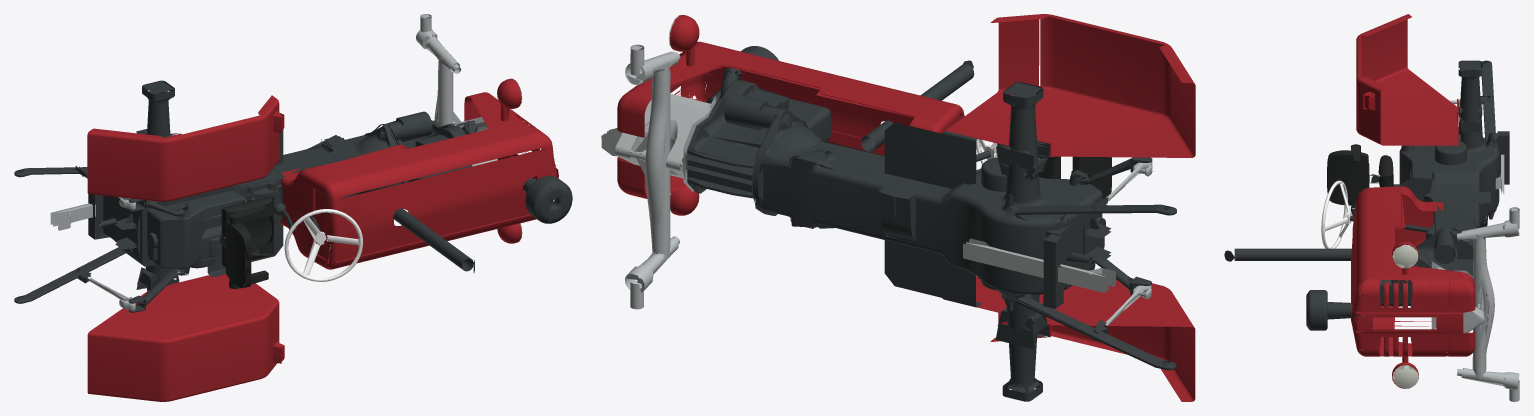
The model's file is vehicle_visual.obj.
The picture shows the model from 3 angles, left to right: view 1: azimuth 30°, elevation 25°; view 2: azimuth 150°, elevation 25°; view 3: azimuth 270°, elevation 25°; orthographic projection. The views are drawn at different scales.
Parts seen in each view (by area): view 1: 0033_MudGuard_MirrorDefault, 0036_Hood_Default<As_Machined>, 0034_MudGuard, 0055_Liftng_Block, 0035_Dashboard, 0062_Block_Default<As_Machined>, 0052_Clutch_Block, 0032_Grill, 0051_Motor, 0004_Seat, 0040_Hood_Default<As_Machined>, 0010_Steering_Wheel (+13 smaller); view 2: 0034_MudGuard, 0062_Block_Default<As_Machined>, 0052_Clutch_Block, 0033_MudGuard_MirrorDefault, 0051_Motor, 0036_Hood_Default<As_Machined>, 0061_Block_Default<As_Machined>, 0032_Grill, 0031_Axle, 0063_Block_Default<As_Machined>, 0066_Pivot_Axle, 0056_Coupling (+17 smaller); view 3: 0034_MudGuard, 0032_Grill, 0062_Block_Default<As_Machined>, 0036_Hood_Default<As_Machined>, 0051_Motor, 0031_Axle, 0035_Dashboard, 0005_Seat, 0055_Liftng_Block, 0052_Clutch_Block, 0037_Hood_Default<As_Machined>, 0042_Lift_LowerArm (+12 smaller).
Boxes of the visible parts, x1,y1,x2,y2 form: 0033_MudGuard_MirrorDefault: (87,274,281,401); 0036_Hood_Default<As_Machined>: (324,118,537,265); 0034_MudGuard: (87,95,281,201); 0055_Liftng_Block: (140,185,246,269); 0035_Dashboard: (280,165,351,269); 0062_Block_Default<As_Machined>: (99,80,283,290); 0052_Clutch_Block: (273,124,408,231); 0032_Grill: (464,92,558,219); 0051_Motor: (369,111,477,182); 0004_Seat: (221,196,273,266); 0040_Hood_Default<As_Machined>: (525,175,572,223); 0010_Steering_Wheel: (284,209,362,281); 0034_MudGuard: (946,14,1195,157); 0062_Block_Default<As_Machined>: (879,82,1110,401); 0052_Clutch_Block: (752,109,990,240); 0033_MudGuard_MirrorDefault: (976,269,1195,401); 0051_Motor: (685,68,830,214); 0036_Hood_Default<As_Machined>: (684,44,939,155); 0061_Block_Default<As_Machined>: (884,122,977,188); 0032_Grill: (617,41,722,198); 0031_Axle: (630,67,683,255); 0063_Block_Default<As_Machined>: (884,240,981,307); 0066_Pivot_Axle: (601,93,718,191); 0056_Coupling: (963,238,1115,293); 0034_MudGuard: (1356,14,1458,145); 0032_Grill: (1351,266,1475,356); 0062_Block_Default<As_Machined>: (1434,60,1499,227); 0036_Hood_Default<As_Machined>: (1351,194,1405,352); 0051_Motor: (1362,230,1473,305); 0031_Axle: (1472,238,1494,374); 0035_Dashboard: (1352,186,1443,246); 0005_Seat: (1327,150,1369,205); 0055_Liftng_Block: (1398,145,1434,201); 0052_Clutch_Block: (1350,202,1479,246); 0037_Hood_Default<As_Machined>: (1234,248,1351,260); 0042_Lift_LowerArm: (1481,60,1497,150).
Bounding box in the file's own units: 1.19 × 0.6255 × 0.712.
